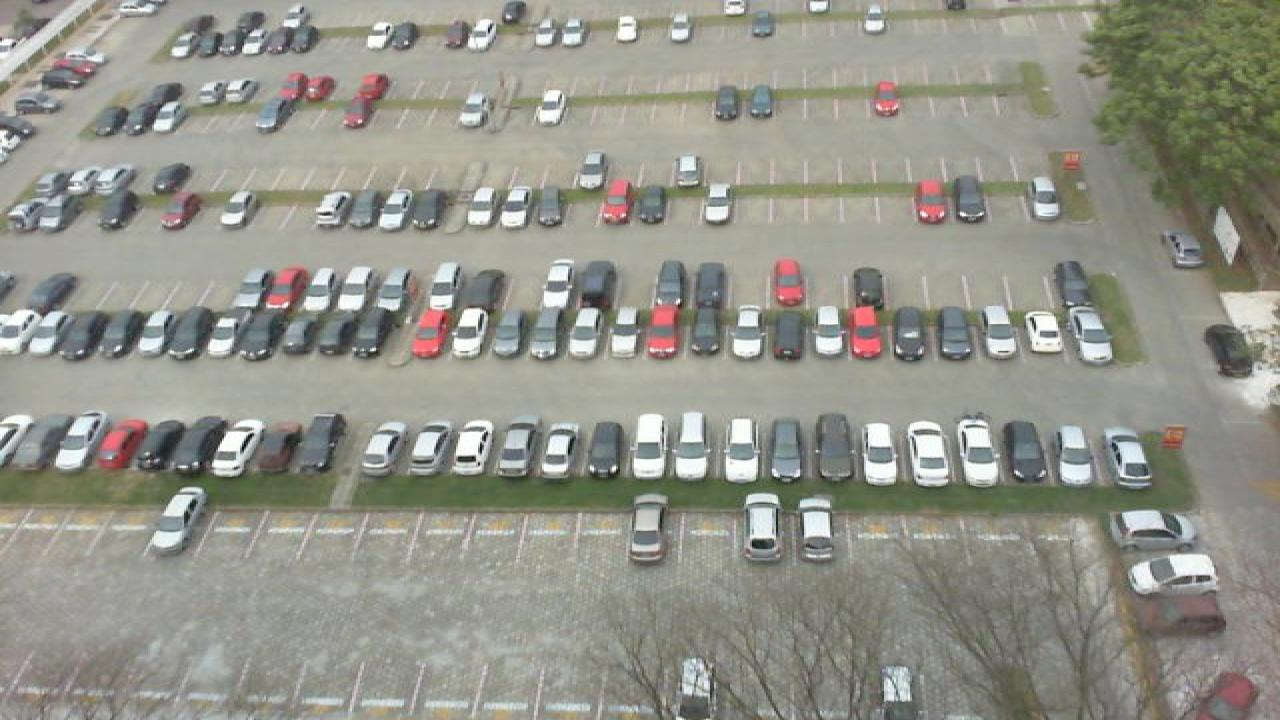Car: (148, 486, 210, 555), (1128, 552, 1222, 596), (902, 418, 956, 490), (1100, 426, 1158, 493), (208, 418, 268, 480), (1110, 510, 1204, 549), (50, 410, 108, 472), (738, 490, 786, 564), (956, 413, 1004, 487), (138, 415, 196, 475), (294, 413, 346, 477), (624, 492, 670, 564), (356, 419, 412, 478), (812, 413, 858, 484), (1002, 419, 1050, 487), (178, 415, 230, 476), (252, 420, 306, 477), (1202, 322, 1256, 379), (794, 495, 838, 564), (718, 415, 762, 484), (1052, 421, 1098, 487), (494, 420, 544, 480), (858, 421, 904, 486), (672, 410, 714, 481), (534, 420, 582, 481), (94, 418, 148, 472), (406, 419, 456, 477), (1068, 304, 1116, 364), (448, 420, 498, 477), (766, 416, 808, 483), (632, 413, 672, 483), (582, 420, 628, 480), (98, 308, 146, 360), (844, 304, 888, 360), (932, 305, 976, 361), (976, 305, 1020, 360), (136, 308, 182, 360), (408, 306, 452, 360), (890, 305, 932, 361), (64, 309, 108, 361), (168, 309, 212, 361), (278, 307, 322, 359), (728, 304, 768, 361), (448, 306, 490, 360), (204, 309, 248, 360), (350, 307, 392, 360), (642, 303, 680, 361), (572, 259, 616, 309), (530, 307, 570, 361), (682, 306, 722, 360), (242, 309, 286, 358), (264, 263, 308, 312), (1052, 260, 1096, 309), (30, 308, 72, 359), (314, 307, 356, 358), (806, 305, 844, 361), (1022, 308, 1066, 356), (1160, 228, 1208, 272), (768, 258, 810, 308), (2, 411, 36, 472), (490, 306, 528, 360), (768, 306, 806, 360), (950, 173, 990, 224), (844, 266, 888, 310), (606, 306, 642, 359), (650, 259, 688, 309), (570, 305, 604, 360), (306, 264, 344, 313), (688, 260, 726, 309), (230, 266, 272, 310), (340, 264, 378, 312), (912, 176, 950, 224), (158, 190, 202, 231), (428, 260, 464, 310), (540, 259, 576, 309), (464, 268, 506, 310), (598, 180, 636, 226), (6, 191, 48, 232), (376, 188, 416, 231), (340, 189, 382, 229), (460, 184, 498, 228), (700, 181, 738, 225), (0, 310, 36, 356), (378, 266, 414, 312), (98, 191, 138, 232), (412, 186, 450, 229), (1028, 176, 1064, 221), (310, 189, 352, 227), (216, 189, 256, 228), (530, 88, 570, 127), (572, 150, 610, 191), (252, 96, 292, 134), (496, 184, 530, 228), (534, 184, 568, 228), (634, 183, 670, 224), (40, 192, 76, 232), (454, 91, 492, 128), (670, 152, 706, 190), (340, 96, 380, 130), (710, 83, 744, 123), (870, 78, 904, 118), (746, 81, 778, 121), (282, 22, 318, 56), (168, 28, 206, 60), (386, 19, 420, 53), (662, 10, 696, 44), (362, 21, 398, 53), (858, 3, 892, 36), (466, 18, 498, 51), (218, 27, 250, 59), (558, 15, 590, 47), (610, 12, 642, 44), (254, 26, 286, 57), (526, 16, 558, 47), (746, 8, 778, 38)
